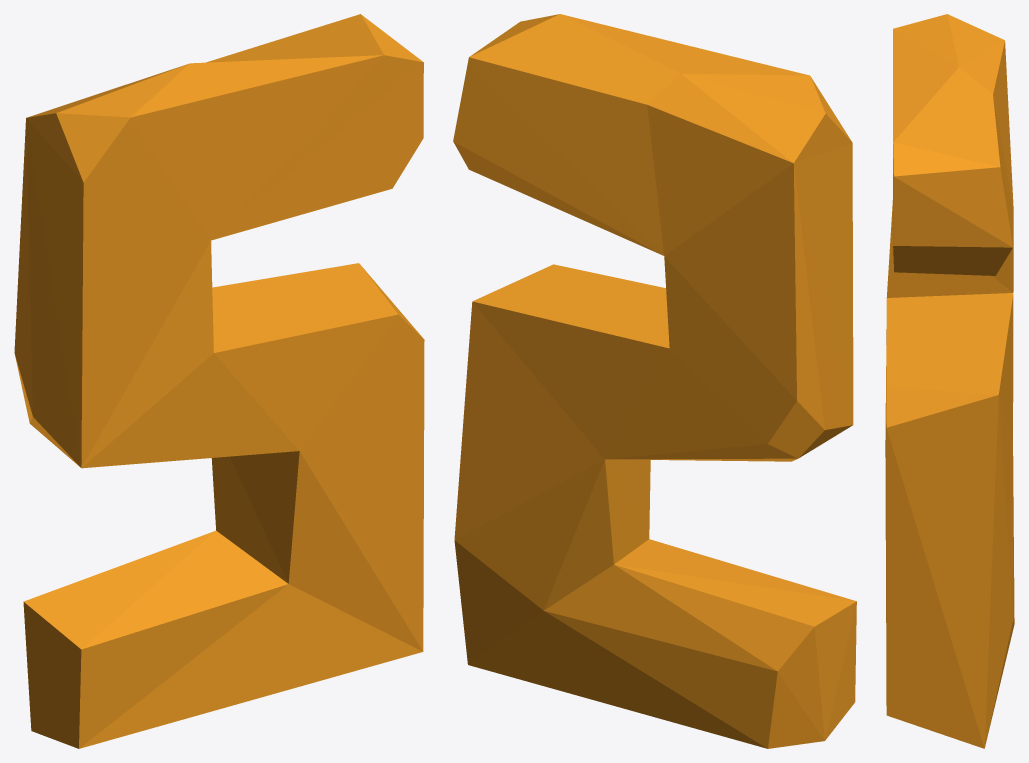
The model's file is SM_Icon_Number_5_01.fbx.
3 renders of one model, left to right at view 1: azimuth 30°, elevation 25°; view 2: azimuth 150°, elevation 25°; view 3: azimuth 270°, elevation 25°, orthographic. The views are drawn at different scales.
Parts seen in each view (by area): view 1: SM_Icon_Number_5_01; view 2: SM_Icon_Number_5_01; view 3: SM_Icon_Number_5_01.
Boxes of the visible parts, x1=… form: SM_Icon_Number_5_01: x1=14, y1=14, x2=424, y2=748; SM_Icon_Number_5_01: x1=453, y1=14, x2=856, y2=748; SM_Icon_Number_5_01: x1=885, y1=14, x2=1014, y2=748.
Bounding box in the file's own units: 31.03 × 53.41 × 10.58.
